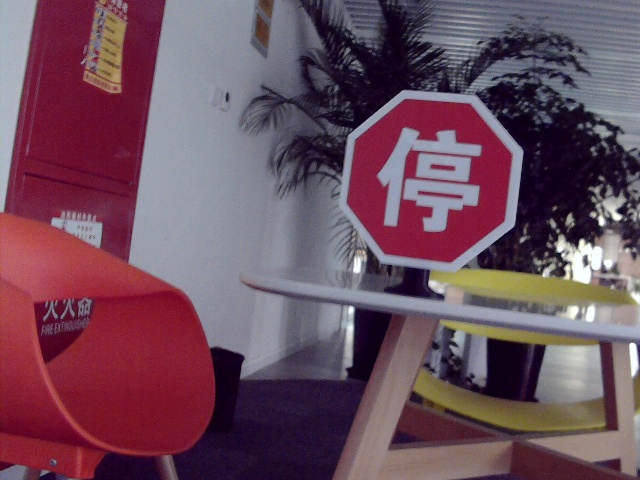stop: (381, 120, 486, 231)
